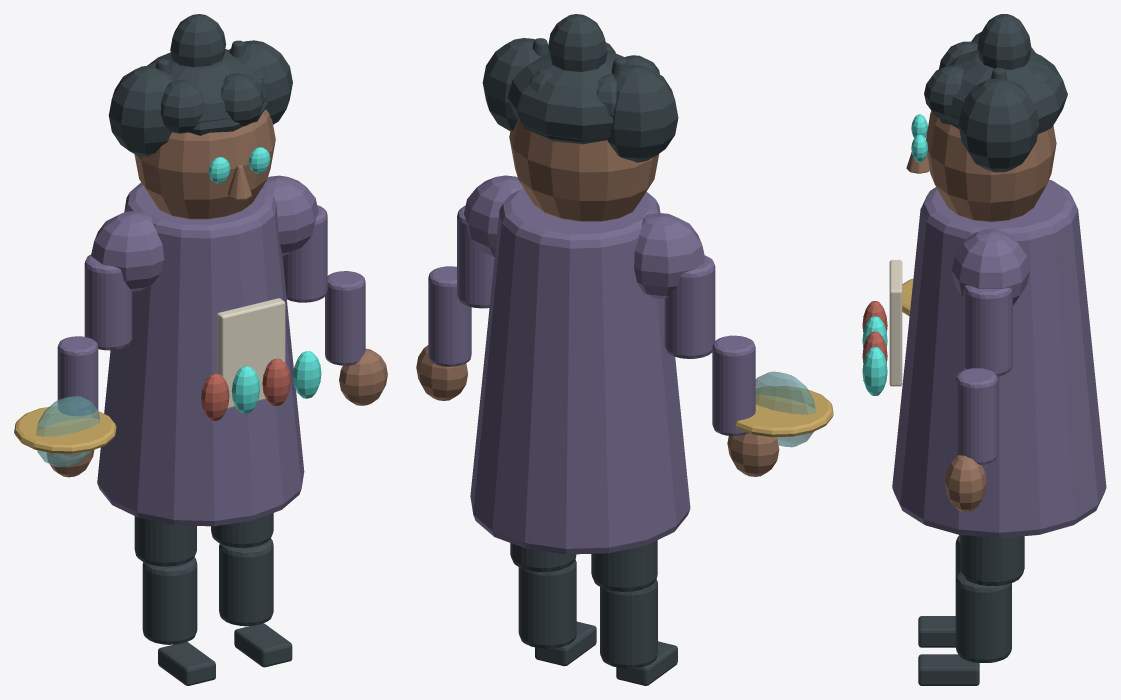
Rendered from Sefu_Anik.fbx.
3 renders of one model, left to right at view 1: azimuth 30°, elevation 25°; view 2: azimuth 150°, elevation 25°; view 3: azimuth 270°, elevation 25°, orthographic. The views are drawn at different scales.
Parts seen in each view (by area): view 1: Coat, HeadMesh, CivicApron, RightShin, LeftShin, Hair_2_Puff_R, RightShoulderPad, RightArm, AppetiteLens_Frame, LeftForearm, RightForearm, LeftArm (+19 smaller); view 2: Coat, HeadMesh, Hair_1_Crown, Hair_2_Puff_R, LeftShin, RightShin, RightShoulderPad, RightArm, RightForearm, LeftForearm, AppetiteLens_Frame, Hair_1_Knot (+10 smaller); view 3: Coat, HeadMesh, Hair_2_Puff_L, LeftShin, LeftArm, LeftShoulderPad, LeftForearm, Hair_1_Crown, LeftThigh, Hair_1_Knot, LeftHandMesh, LeftFootMesh (+8 smaller).
Part boxes in pixels (x1,y1,x2,y2): Coat: (97,182,304,526); HeadMesh: (134,109,275,219); CivicApron: (217,298,285,408); RightShin: (142,557,197,644); LeftShin: (219,539,273,626); Hair_2_Puff_R: (108,65,172,156); RightShoulderPad: (91,210,164,291); RightArm: (84,254,132,350); AppetiteLens_Frame: (14,406,116,453); LeftForearm: (325,271,365,365); RightForearm: (57,336,98,415); LeftArm: (282,205,327,302); Coat: (470,188,690,554); HeadMesh: (509,119,659,221); Hair_1_Crown: (507,50,624,139); Hair_2_Puff_R: (607,64,678,162); LeftShin: (518,559,576,648); RightShin: (600,579,657,668); RightShoulderPad: (634,213,705,298); RightArm: (664,255,715,358); RightForearm: (712,335,755,436); LeftForearm: (428,266,471,366); AppetiteLens_Frame: (735,386,833,437); Hair_1_Knot: (548,14,607,71); Coat: (892,179,1106,538); HeadMesh: (926,111,1056,221); Hair_2_Puff_L: (958,78,1039,172); LeftShin: (955,571,1011,662); LeftArm: (963,285,1012,376); LeftShoulderPad: (952,228,1029,305); LeftForearm: (956,368,997,464); Hair_1_Crown: (946,49,1067,131); LeftThigh: (960,535,1024,585); Hair_1_Knot: (977,14,1031,69); LeftHandMesh: (945,455,986,512); LeftFootMesh: (918,654,979,685).
Bounding box in the file's own units: 1.55 × 2.49 × 0.8551.
